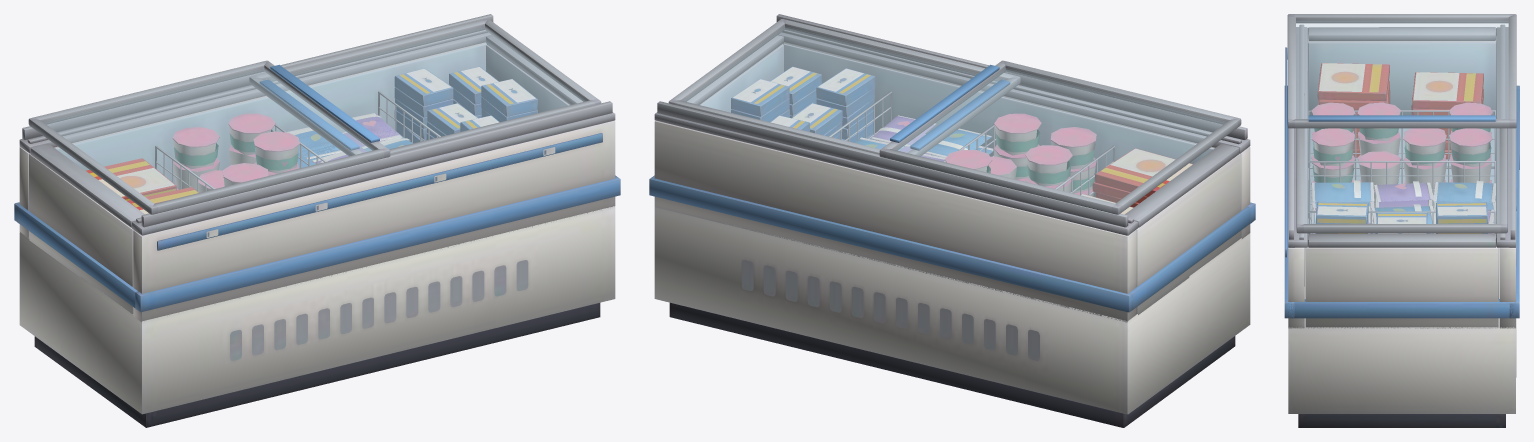
The model's file is g3-freezer-chest-lite.glb.
The picture shows the model from 3 angles, left to right: view 1: azimuth 30°, elevation 25°; view 2: azimuth 150°, elevation 25°; view 3: azimuth 270°, elevation 25°; orthographic projection. The views are drawn at different scales.
Visible parts, largest first — view 1: freezer-chest_body, freezer-chest_lid_l_glass, freezer-chest_lid_r_glass, freezer-chest_lid_l, freezer-chest_lid_r; view 2: freezer-chest_body, freezer-chest_lid_l_glass, freezer-chest_lid_r_glass, freezer-chest_lid_l, freezer-chest_lid_r; view 3: freezer-chest_body, freezer-chest_lid_l_glass, freezer-chest_lid_r_glass, freezer-chest_lid_l, freezer-chest_lid_r.
Part boxes in pixels (x1,y1,x2,y2): freezer-chest_body: (14, 14, 620, 427); freezer-chest_lid_l_glass: (44, 68, 375, 203); freezer-chest_lid_r_glass: (270, 26, 586, 152); freezer-chest_lid_l: (28, 60, 390, 214); freezer-chest_lid_r: (249, 19, 601, 156); freezer-chest_body: (649, 14, 1255, 427); freezer-chest_lid_l_glass: (894, 68, 1225, 203); freezer-chest_lid_r_glass: (683, 26, 999, 152); freezer-chest_lid_l: (879, 60, 1241, 214); freezer-chest_lid_r: (668, 19, 1020, 156); freezer-chest_body: (1284, 24, 1519, 427); freezer-chest_lid_l_glass: (1296, 20, 1508, 118); freezer-chest_lid_r_glass: (1305, 128, 1499, 223); freezer-chest_lid_l: (1287, 14, 1516, 128); freezer-chest_lid_r: (1296, 119, 1507, 233).
Bounding box in the file's own units: 2.02 × 0.9157 × 0.926.
Materials: 4 (3 with a texture image).
